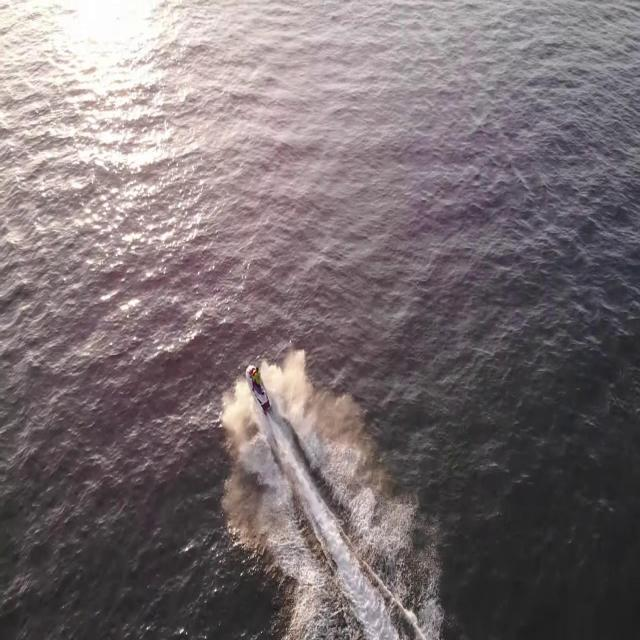boat: (245, 363, 273, 417)
